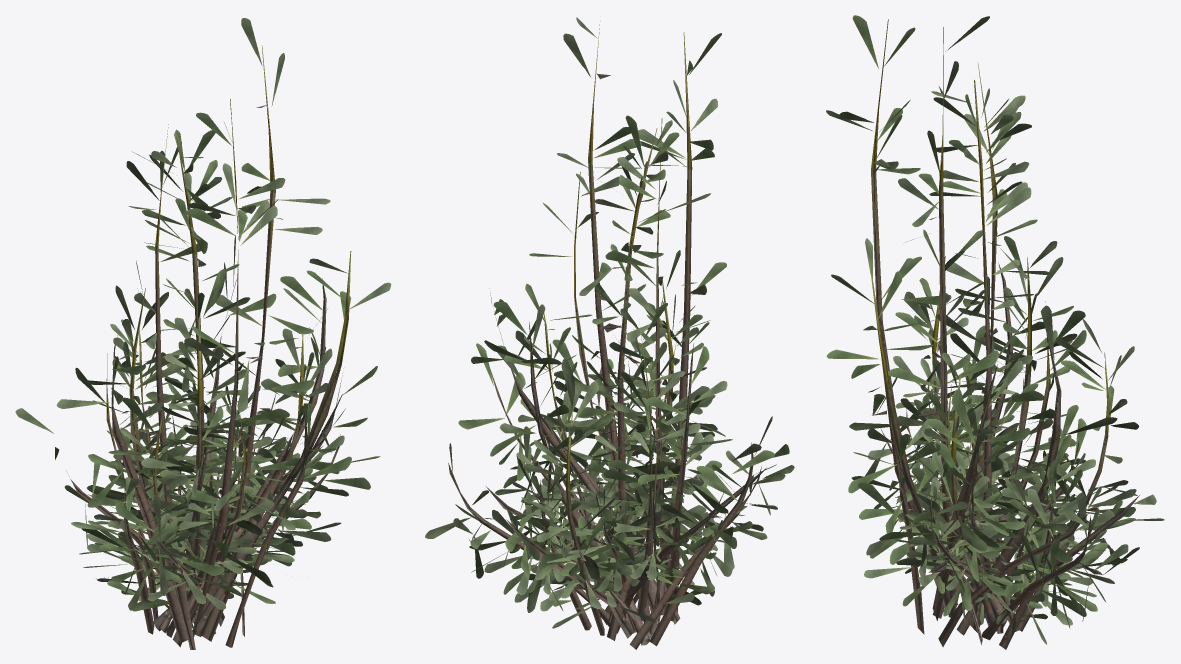
The model's file is myrte.glb.
3 renders of one model, left to right at view 1: azimuth 30°, elevation 25°; view 2: azimuth 150°, elevation 25°; view 3: azimuth 270°, elevation 25°, orthographic. The views are drawn at different scales.
Parts seen in each view (by area): view 1: othonna_cerarioides_d, othonna_cerarioides_e, othonna_cerarioides_f; view 2: othonna_cerarioides_d, othonna_cerarioides_e, othonna_cerarioides_f; view 3: othonna_cerarioides_d, othonna_cerarioides_e, othonna_cerarioides_f.
Boxes of the visible parts, x1,y1,x2,y2 form: othonna_cerarioides_d: (15,18,391,649); othonna_cerarioides_e: (71,129,380,634); othonna_cerarioides_f: (106,268,288,637); othonna_cerarioides_d: (458,17,789,638); othonna_cerarioides_e: (425,115,794,649); othonna_cerarioides_f: (495,250,732,638); othonna_cerarioides_d: (826,15,1164,646); othonna_cerarioides_e: (849,80,1139,644); othonna_cerarioides_f: (851,229,1138,649).
Bounding box in the file's own units: 0.6347 × 1.12 × 0.5386.
Materials: 1 (1 with a texture image).
